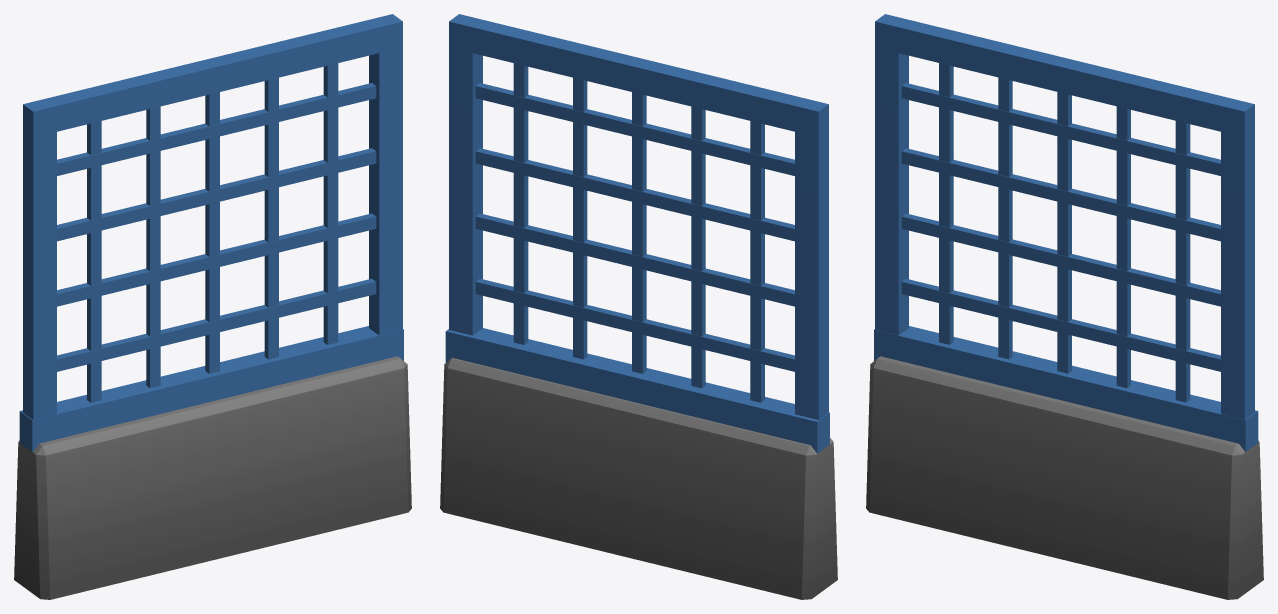
File: Fence_1_D_5.fbx
3 views of the same model, side by side, from view 1: azimuth 30°, elevation 25°; view 2: azimuth 150°, elevation 25°; view 3: azimuth 330°, elevation 25° (orthographic).
Visible parts, largest first — view 1: Fence_1_D_5; view 2: Fence_1_D_5; view 3: Fence_1_D_5.
Part boxes in pixels (x1,y1,x2,y2): Fence_1_D_5: [14, 14, 411, 599]; Fence_1_D_5: [440, 14, 837, 599]; Fence_1_D_5: [866, 14, 1263, 599].
Bounding box in the file's own units: 200 × 248 × 30.52.
